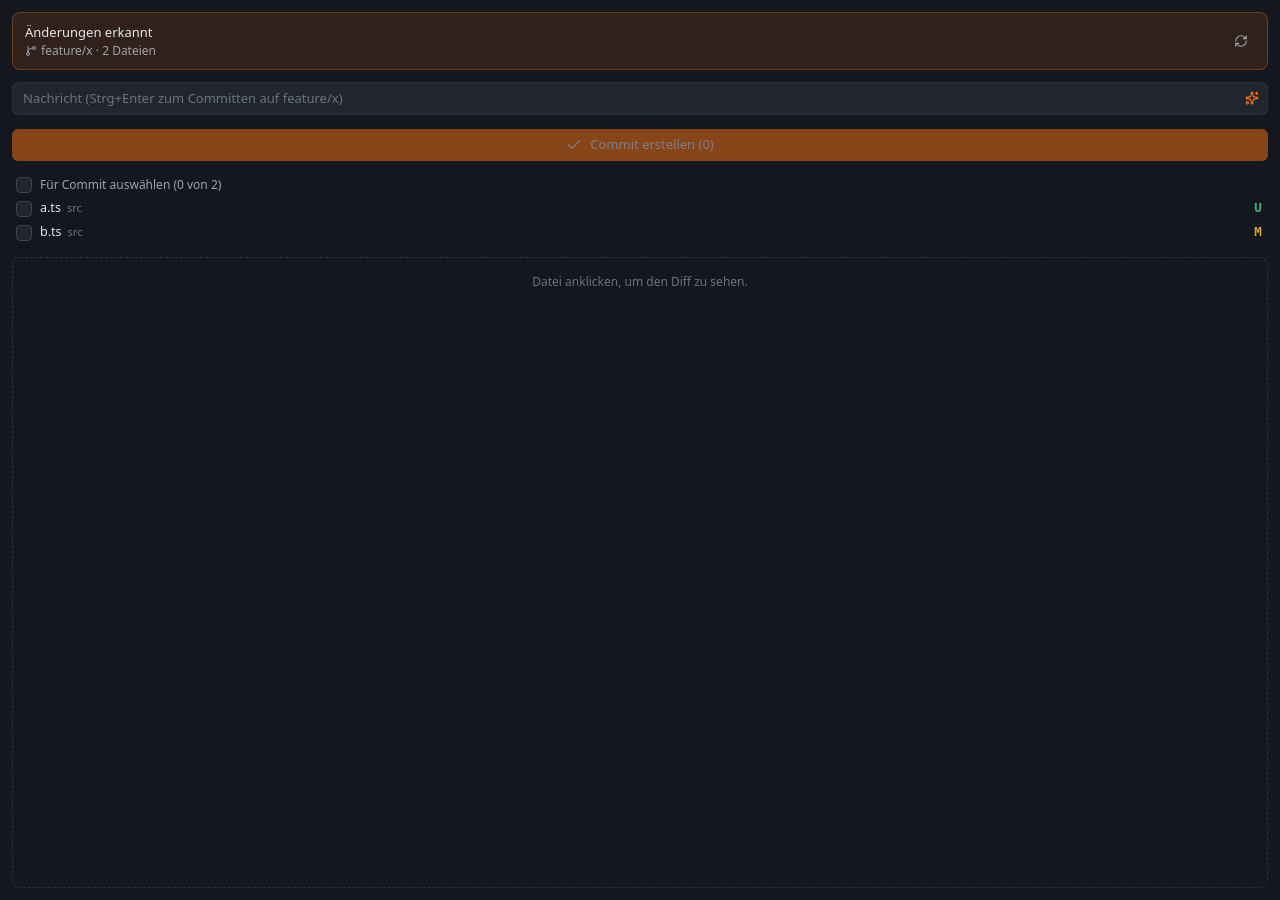
GitPanel commit flow › replaces the review dialog with the flagged-files dialog on a policy stop
Click the checkbox named "src/a.ts auswählen". click: (24, 208)
box: [16, 200, 32, 216]
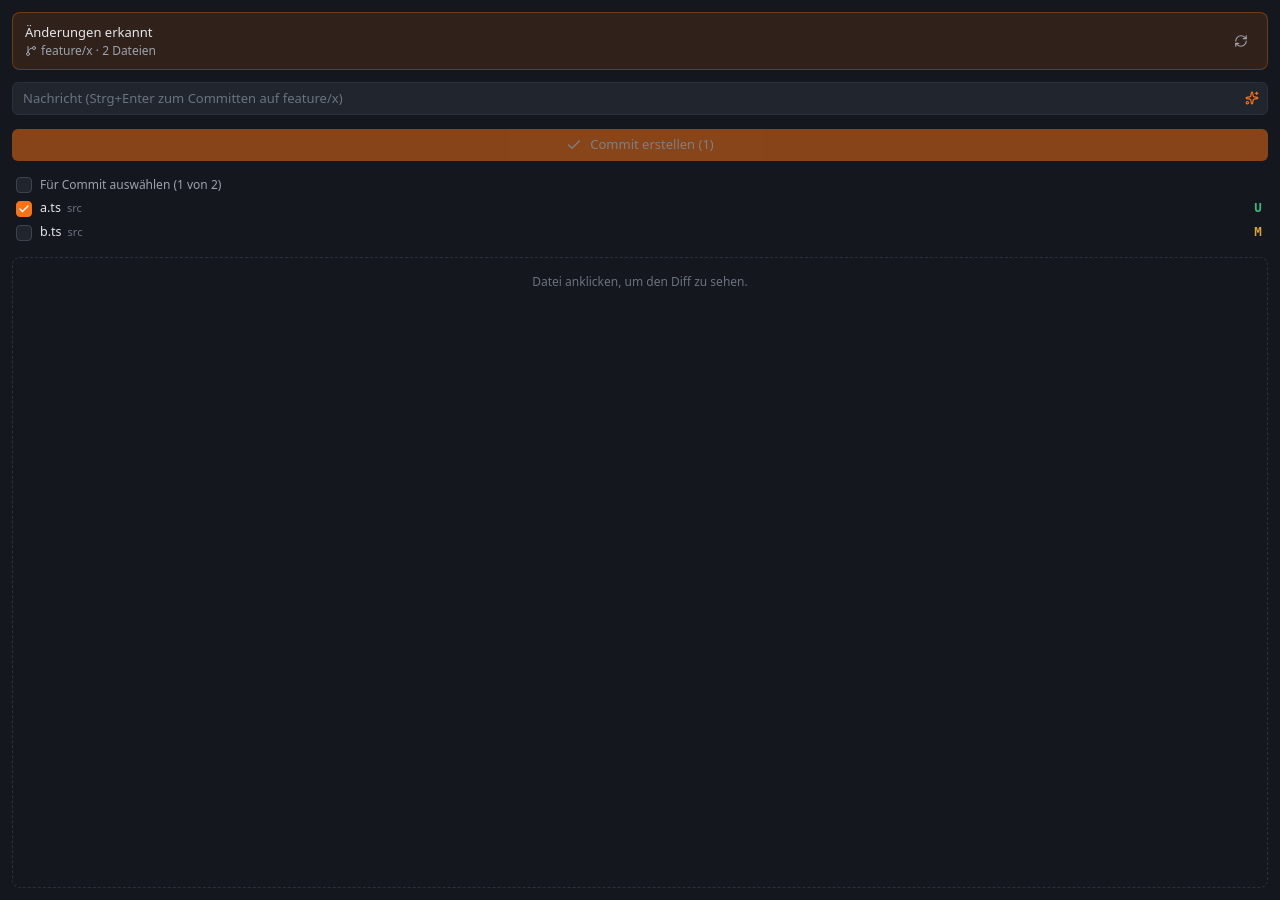
Type "feat: test" into the text box named "Commit-Nachricht". click: (640, 98)
box: [12, 82, 1268, 115]
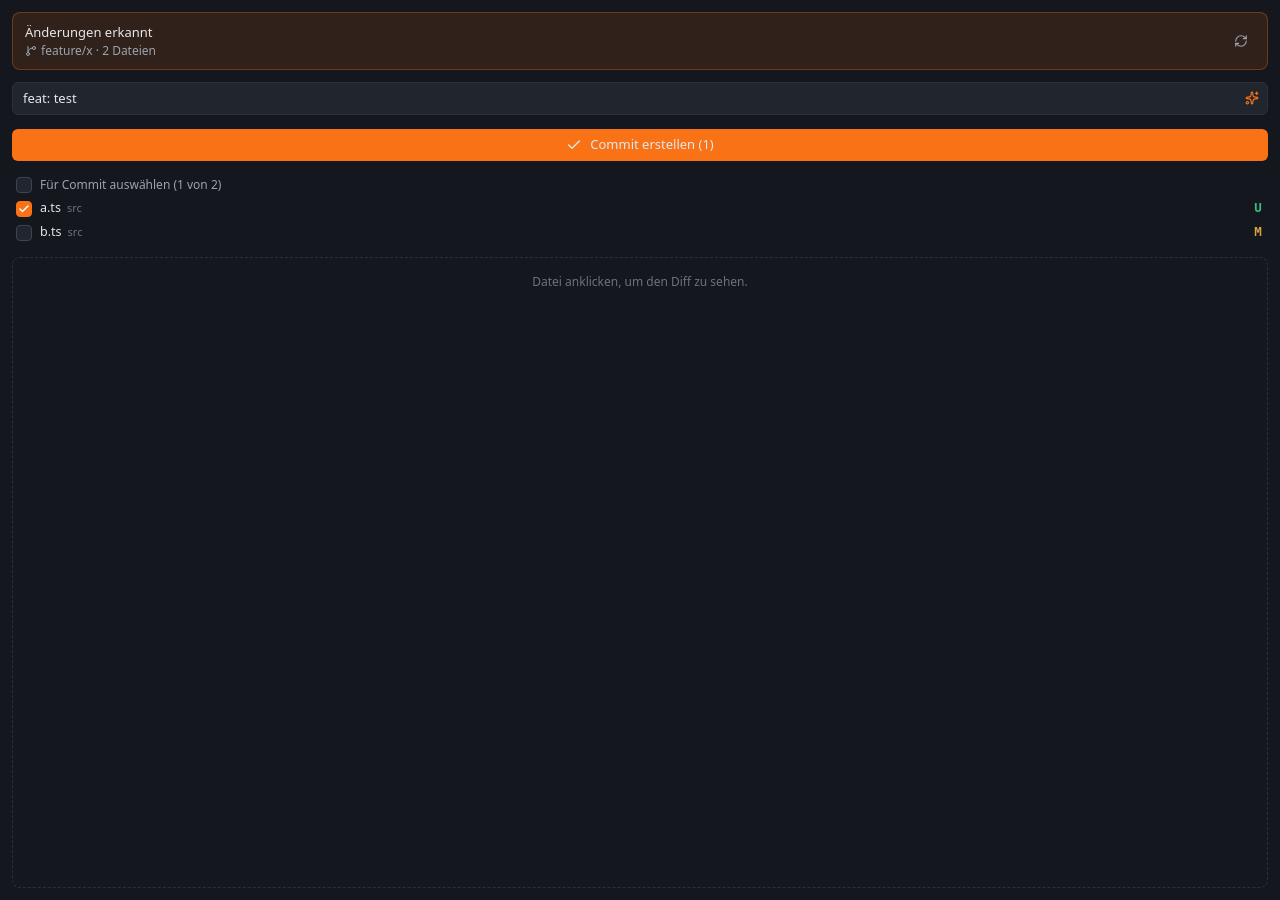
Click the button "Commit erstellen (1)". click: (640, 144)
box: [12, 128, 1268, 160]
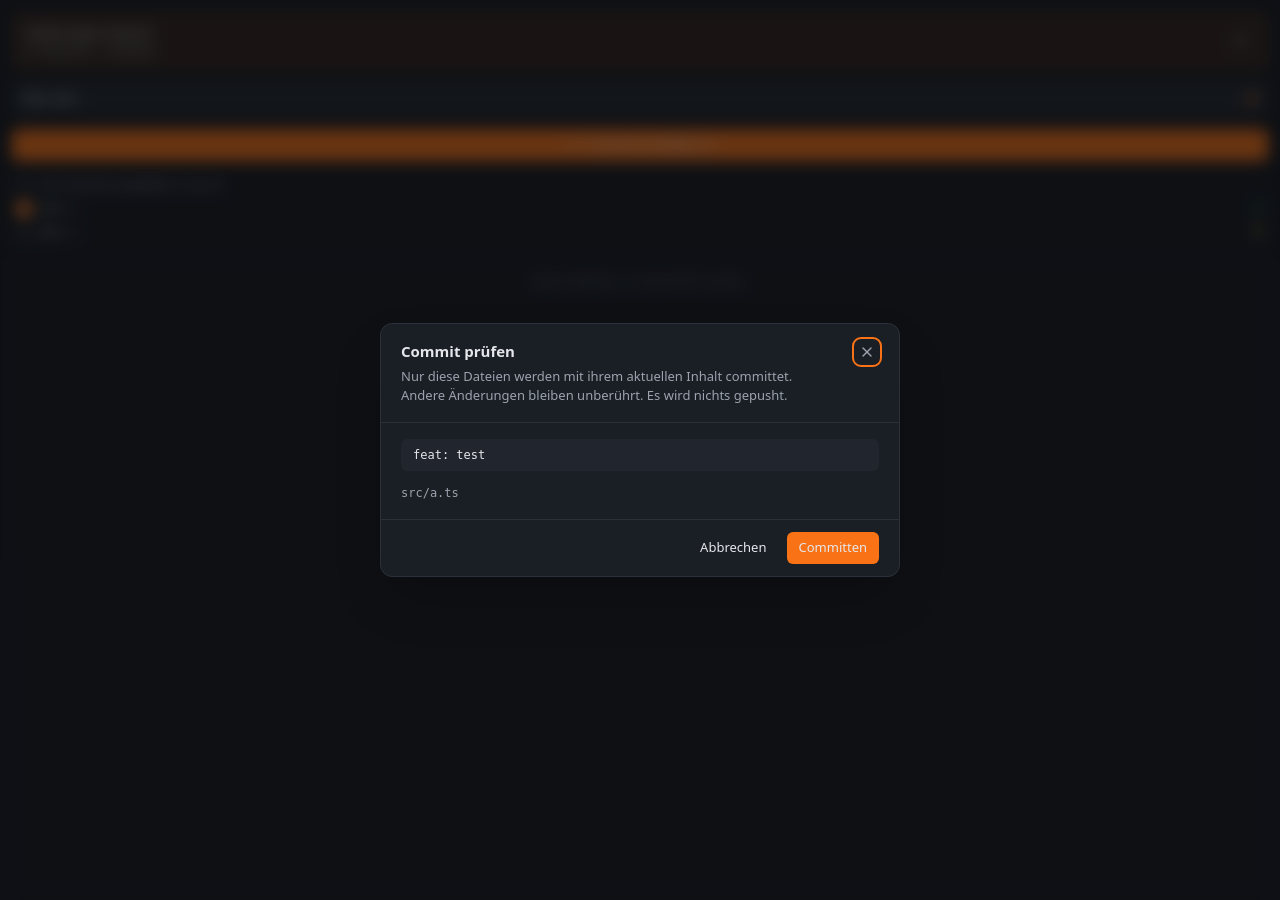
Click the button "Committen". click: (833, 548)
box: [786, 532, 879, 564]
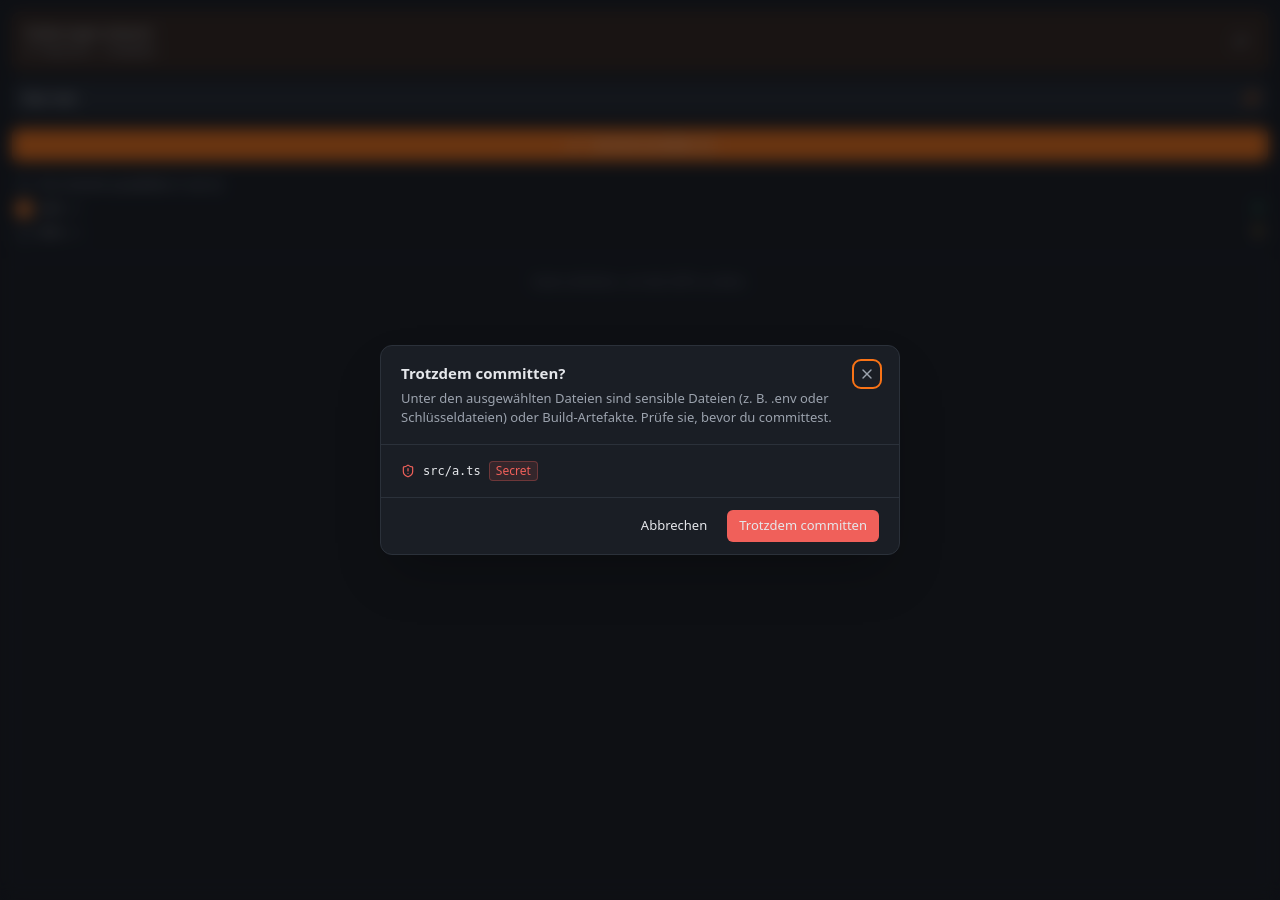
Expected: the button "Trotzdem committen" is shown, [727, 510, 879, 542]
